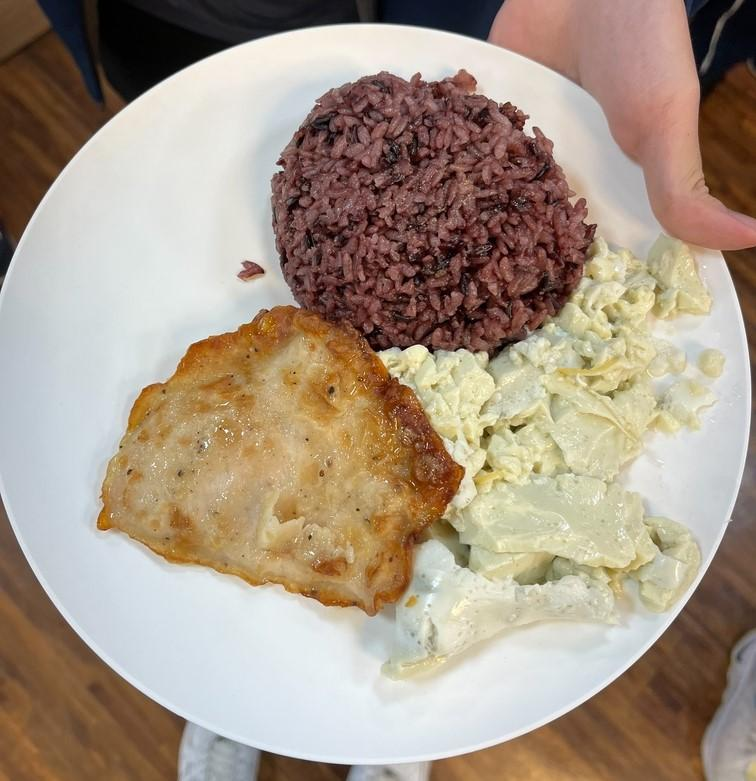big fried chicken leg: (2, 25, 756, 771)
braised fish: (269, 75, 598, 349)
braised fish fillet: (387, 234, 705, 687)
braised pork: (95, 295, 464, 614)
